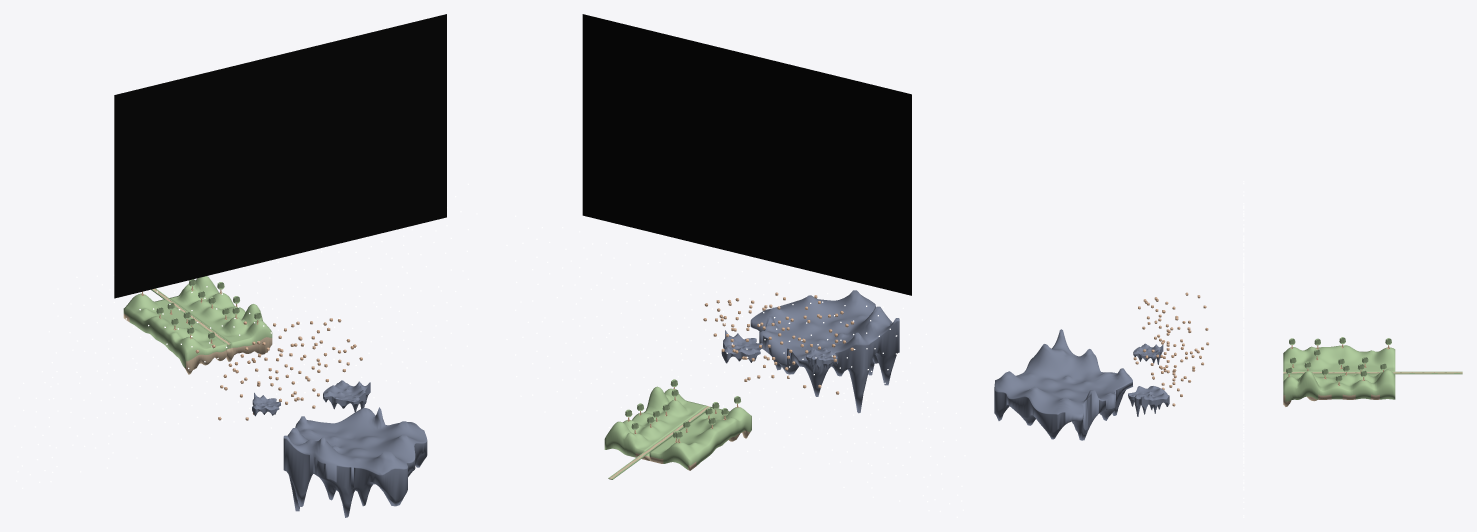
File: StrokesScene.glb
3 renders of one model, left to right at view 1: azimuth 30°, elevation 25°; view 2: azimuth 150°, elevation 25°; view 3: azimuth 270°, elevation 25°, orthographic. The views are drawn at different scales.
Visible parts, largest first — view 1: Plane, Terrain, Cube.003, Cube, meteorFull, Cube.002; view 2: Plane, Terrain, Cube, Cube.003, meteorFull, Cube.002; view 3: Terrain, Cube.003, Cube, meteorFull, Cube.002.
Boxes of the visible parts, x1,y1,x2,y2 form: Plane: [114, 14, 446, 298]; Terrain: [283, 407, 427, 517]; Cube.003: [169, 276, 272, 361]; Cube: [123, 293, 226, 374]; meteorFull: [195, 318, 362, 420]; Cube.002: [323, 380, 370, 412]; Plane: [582, 14, 911, 295]; Terrain: [750, 290, 899, 413]; Cube: [649, 407, 751, 470]; Cube.003: [604, 386, 706, 460]; meteorFull: [703, 292, 854, 394]; Cube.002: [721, 330, 762, 363]; Terrain: [994, 329, 1132, 440]; Cube.003: [1283, 369, 1395, 406]; Cube: [1283, 345, 1395, 371]; meteorFull: [1133, 292, 1208, 406]; Cube.002: [1128, 386, 1169, 416].
Bounding box in the file's own units: 107 × 87.87 × 104.
